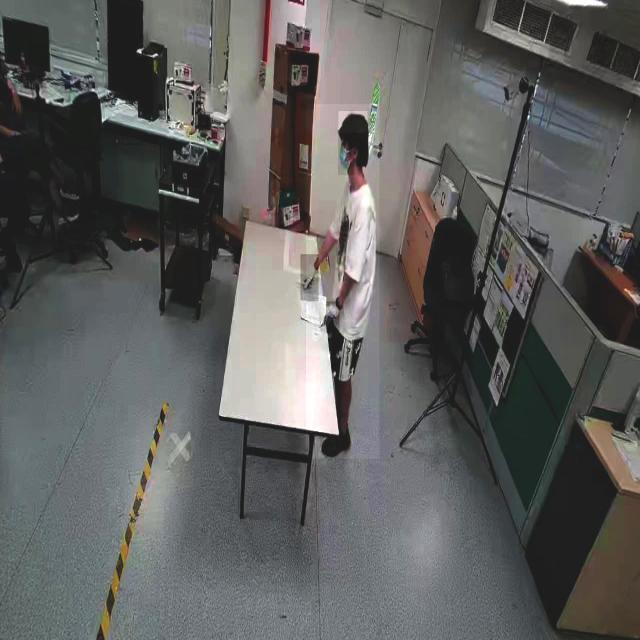face_mask: (338, 135, 354, 175)
hand_glove: (300, 254, 318, 302), (326, 302, 340, 334)
hand_noglove: (9, 90, 25, 117)
head_nohelmet: (338, 111, 368, 133)
person: (306, 104, 380, 460)
shoes: (319, 420, 355, 463)
